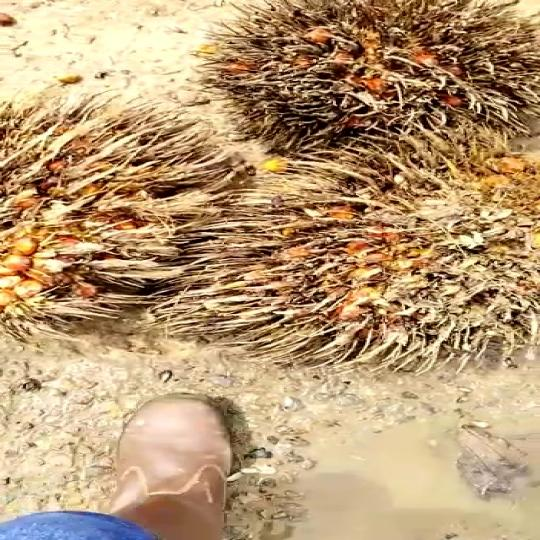terlalu masak: (201, 153, 540, 358), (181, 0, 540, 151)
